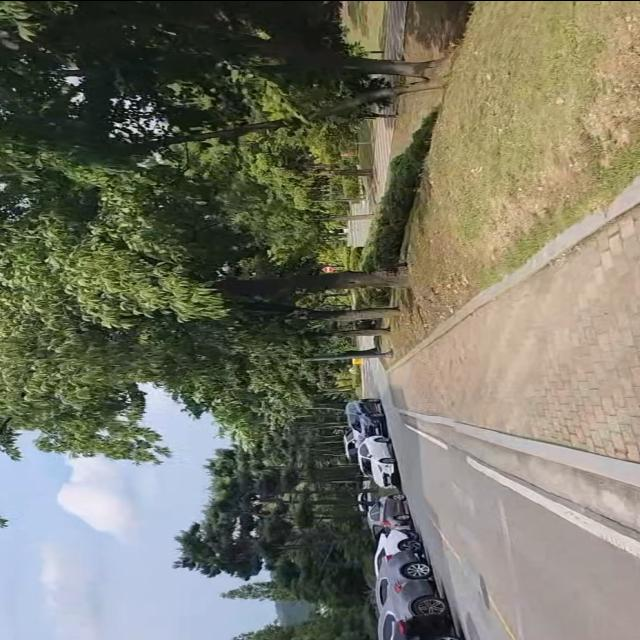obstacle: (364, 489, 463, 640), (341, 393, 401, 488)
road: (377, 400, 640, 640)
sidewalk: (382, 178, 640, 483)
